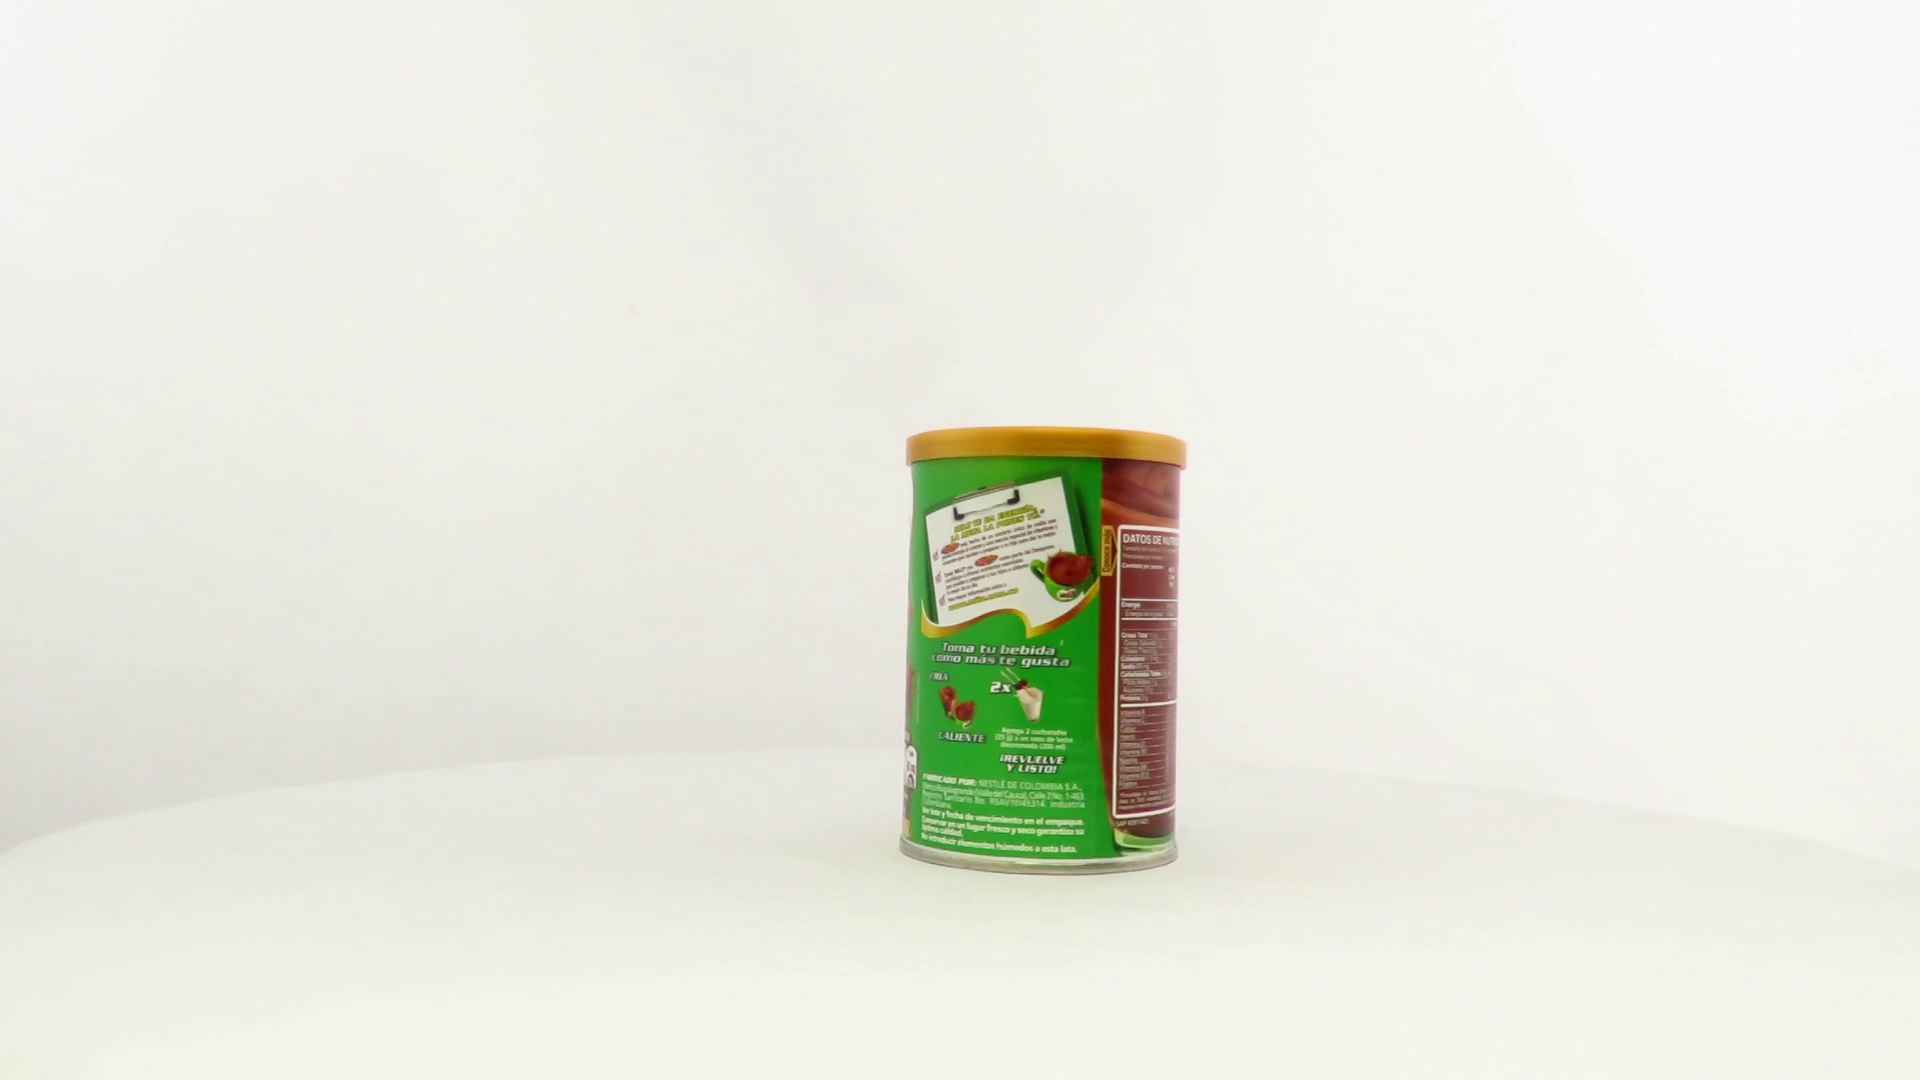COL0170203LAT20000: (894, 421, 1193, 882)
